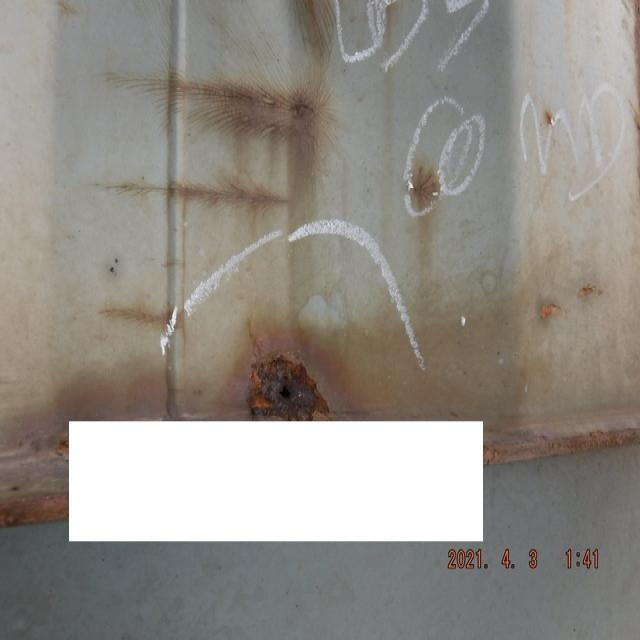hole: (247, 356, 331, 424)
